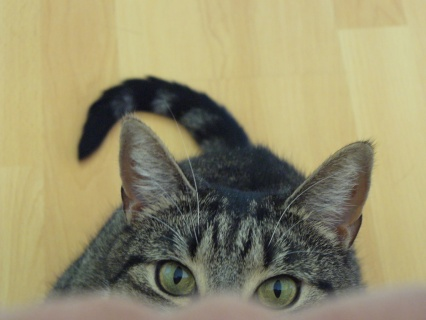Cat: (42, 74, 378, 313)
